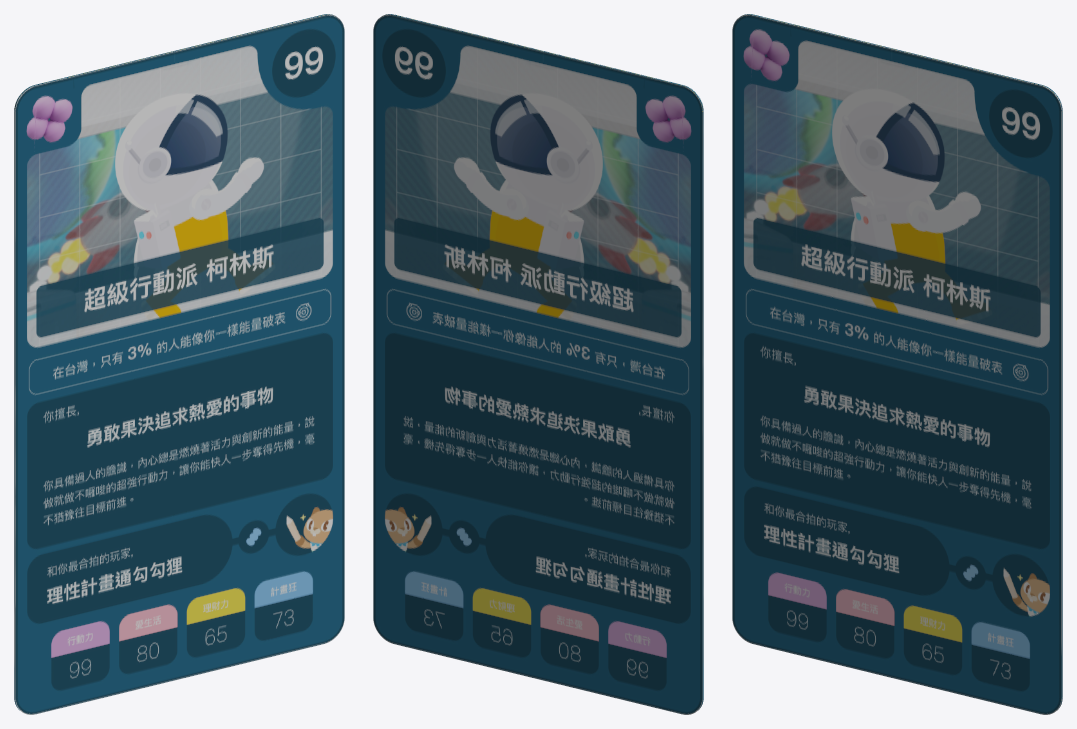
File: Brightness100.glb
3 views of the same model, side by side, from view 1: azimuth 30°, elevation 25°; view 2: azimuth 150°, elevation 25°; view 3: azimuth 330°, elevation 25° (orthographic).
Parts seen in each view (by area): view 1: 形狀_1_4; view 2: 形狀_1_4; view 3: 形狀_1_4.
Boxes of the visible parts, left/top/right/bottom form: 形狀_1_4: left=14, top=14, right=344, bottom=714; 形狀_1_4: left=373, top=14, right=703, bottom=714; 形狀_1_4: left=732, top=14, right=1062, bottom=714.
Bounding box in the file's own units: 1.5 × 2.74 × 0.00806.
Materials: 1 (1 with a texture image).
